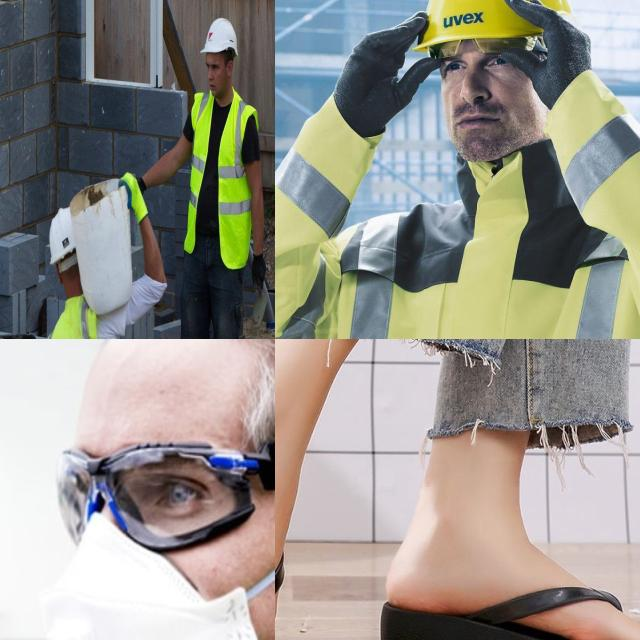Sandals: (275, 353, 640, 640)
face_nomask: (426, 46, 534, 169), (203, 52, 234, 102)
glasses: (55, 449, 274, 547)
hand_glove: (311, 6, 436, 129), (485, 0, 620, 85), (117, 157, 154, 224)
head_helmet: (413, 0, 576, 49), (198, 15, 236, 61), (50, 203, 76, 266)
person: (275, 7, 640, 339), (40, 339, 275, 640), (174, 9, 271, 339), (42, 205, 138, 339)
vest: (332, 208, 640, 339), (186, 90, 256, 268)
